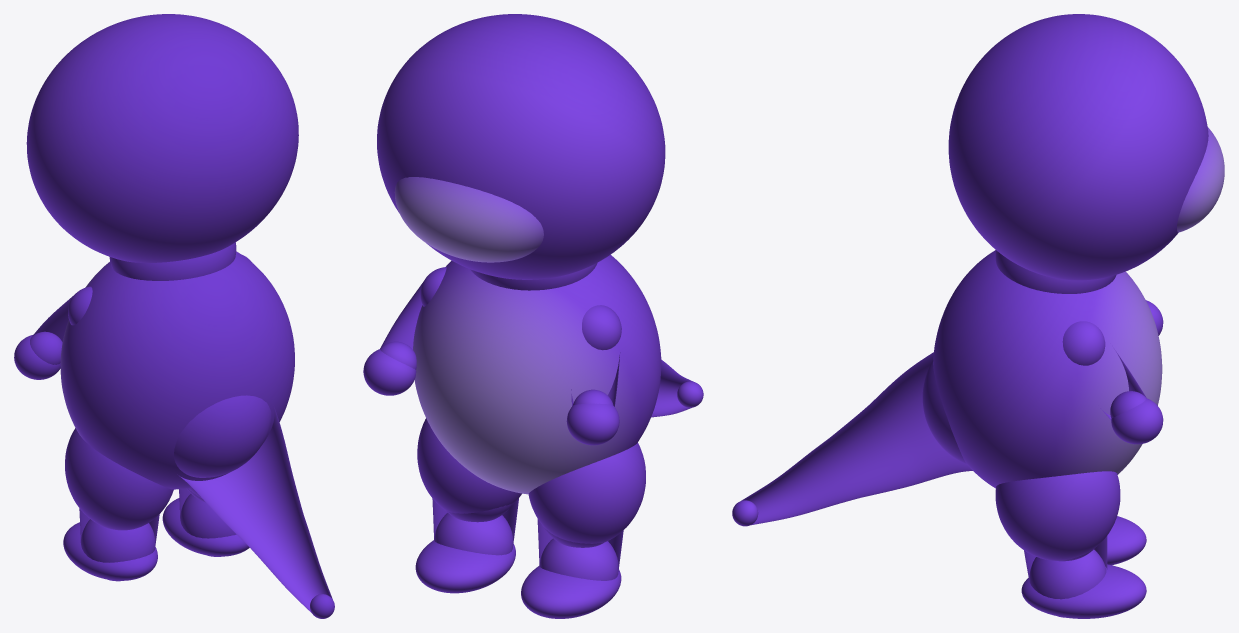
File: standin-raw.glb
3 views of the same model, side by side, from view 1: azimuth 30°, elevation 25°; view 2: azimuth 150°, elevation 25°; view 3: azimuth 270°, elevation 25° (orthographic). The views are drawn at different scales.
Visible parts, largest first — view 1: standin; view 2: standin; view 3: standin.
Boxes of the visible parts, x1,y1,x2,y2 form: standin: [14, 14, 334, 618]; standin: [363, 14, 703, 618]; standin: [732, 14, 1224, 618].
Size of the model in its own units: 0.476 by 1.01 by 0.8031.
Materials: 1 (1 with a texture image).
